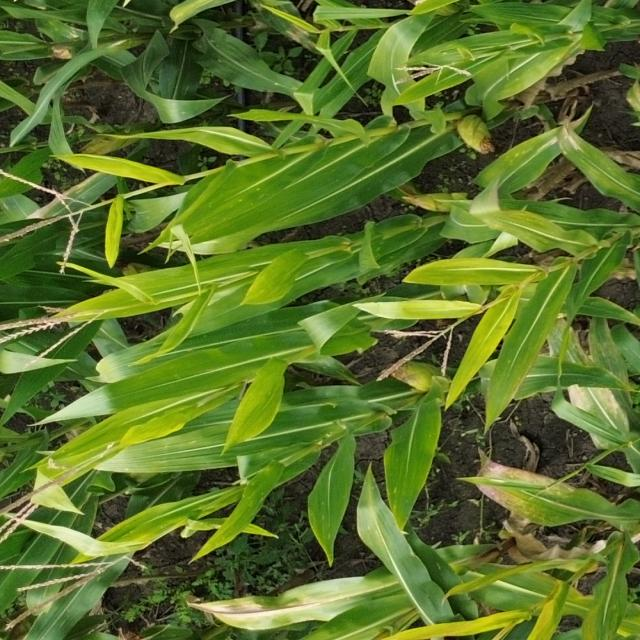gray-leaf-spot: (503, 137, 552, 170), (277, 4, 316, 45), (57, 24, 94, 50)
northern-leaf-blight: (231, 588, 370, 628), (560, 129, 602, 164)
southern-leaf-blight: (201, 188, 261, 228), (589, 330, 633, 376), (498, 492, 559, 522), (306, 497, 339, 542), (238, 478, 272, 516)
